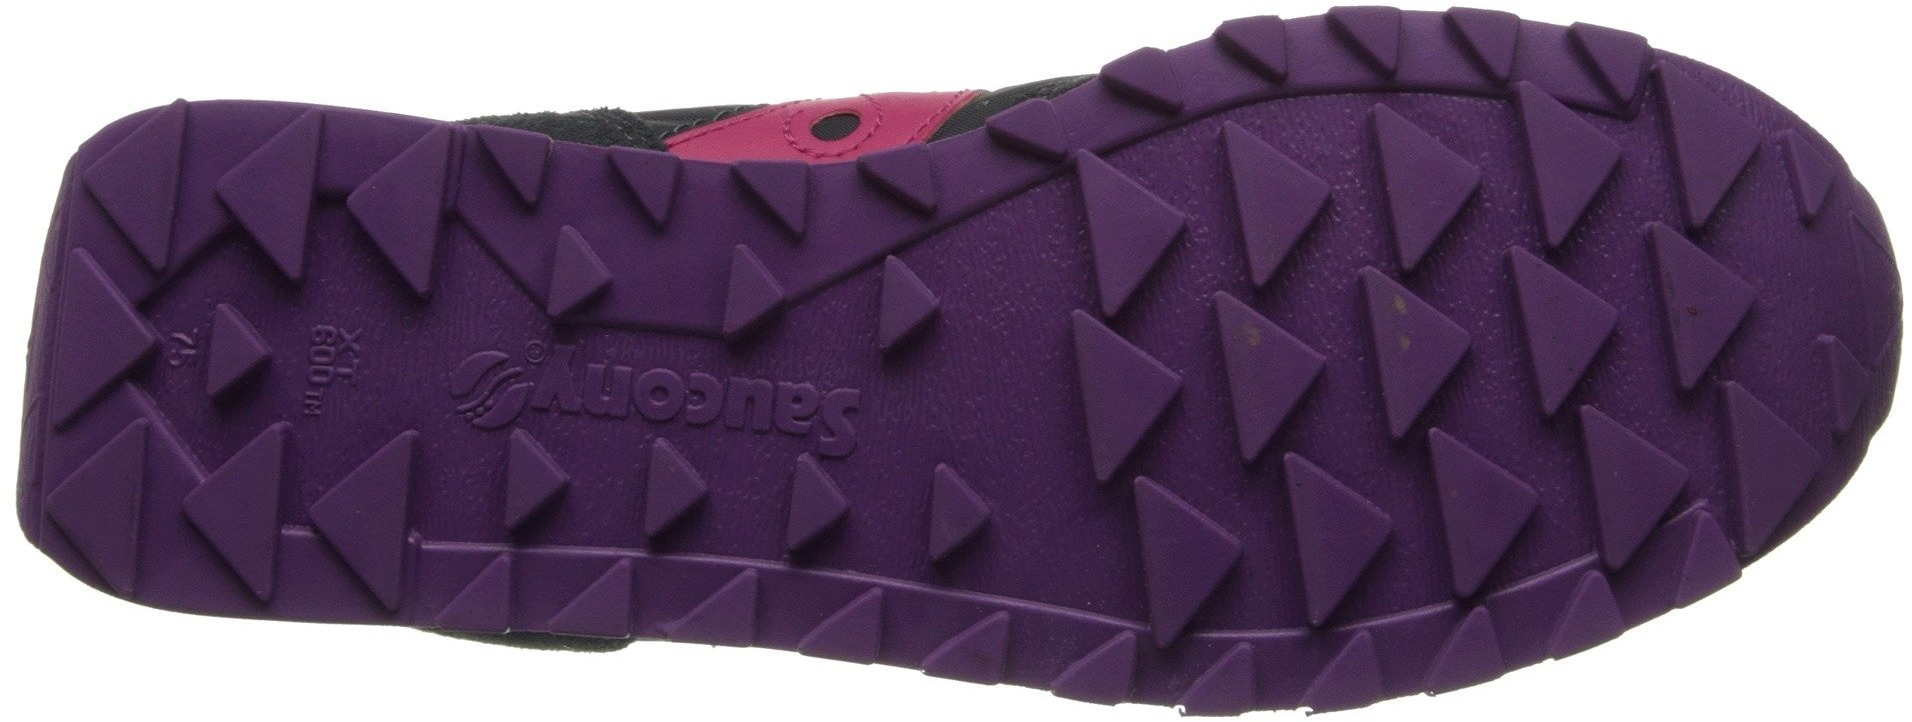circle: (629, 360, 699, 428)
text: (443, 305, 872, 477), (452, 317, 610, 461), (699, 348, 830, 471), (278, 315, 391, 424)
triangle: (1028, 143, 1435, 484), (1452, 123, 1819, 471), (1179, 487, 1394, 681), (895, 481, 1094, 676), (59, 395, 262, 563), (206, 120, 390, 304), (758, 170, 941, 335), (506, 473, 682, 637), (480, 152, 655, 313), (1408, 501, 1583, 657)
